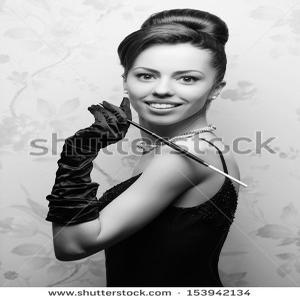cigarette: (206, 160, 250, 190)
